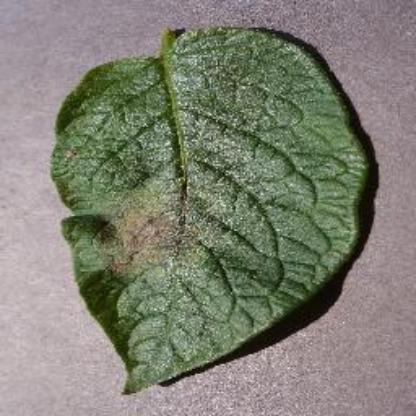Late-Blight: (36, 17, 378, 398)
